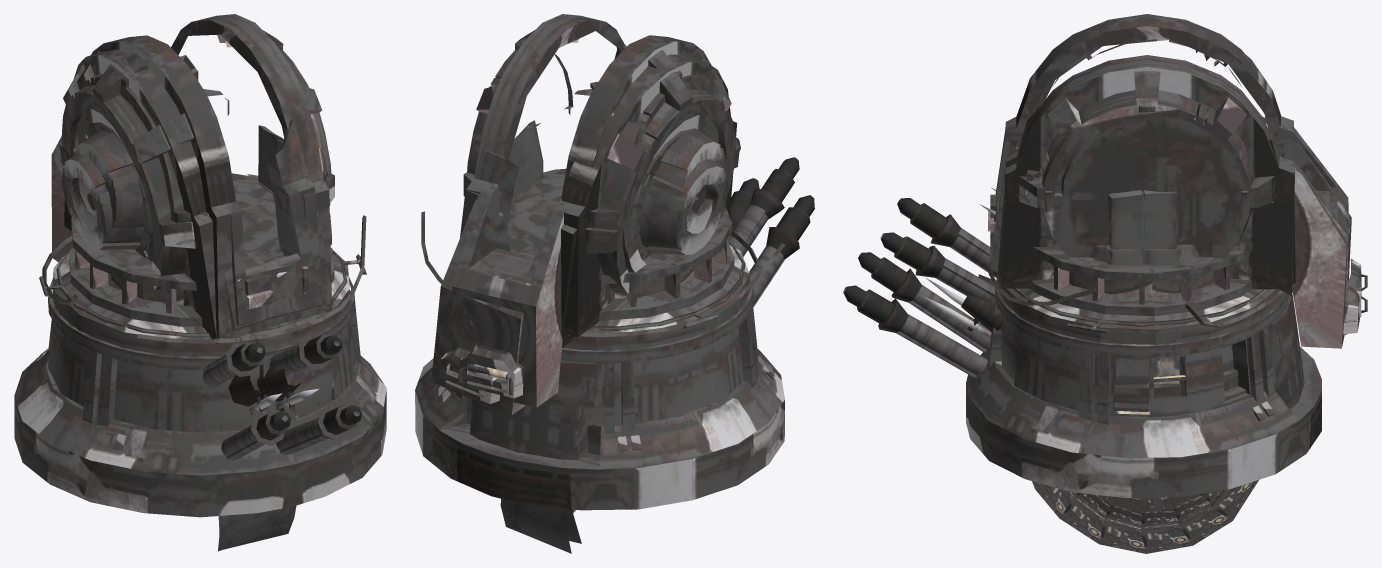
Rendered from aaturret.lod1.glb.
The picture shows the model from 3 angles, left to right: view 1: azimuth 30°, elevation 25°; view 2: azimuth 150°, elevation 25°; view 3: azimuth 270°, elevation 25°; orthographic projection. The views are drawn at different scales.
Bounding box in the file's own units: 3.16 × 4.86 × 4.68.
Materials: 1 (1 with a texture image).
